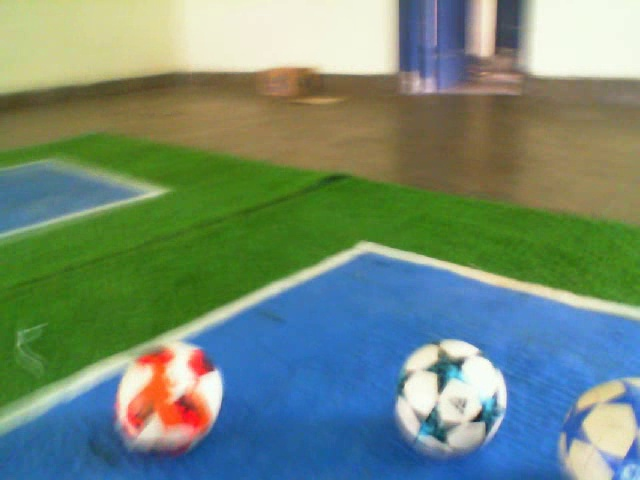ball: (388, 336, 512, 465), (112, 337, 228, 458), (554, 372, 640, 480)
